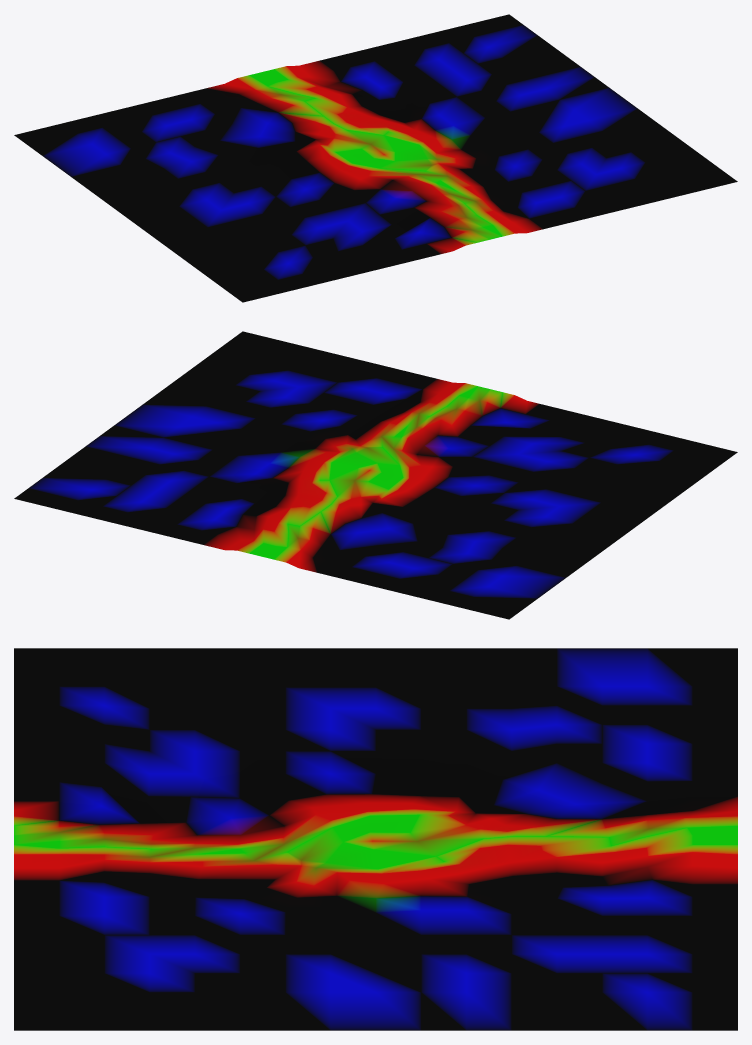
File: Section_MiniBossWayLine01_Steppe_Terrain.fbx
3 renders of one model, top to bottom at view 1: azimuth 30°, elevation 25°; view 2: azimuth 150°, elevation 25°; view 3: azimuth 270°, elevation 25°, orthographic. The views are drawn at different scales.
Visible parts, largest first — view 1: Section_MiniBossWayLine01_Steppe_Terrain; view 2: Section_MiniBossWayLine01_Steppe_Terrain; view 3: Section_MiniBossWayLine01_Steppe_Terrain.
Boxes of the visible parts, x1=… form: Section_MiniBossWayLine01_Steppe_Terrain: x1=14, y1=14, x2=737, y2=302; Section_MiniBossWayLine01_Steppe_Terrain: x1=14, y1=331, x2=737, y2=619; Section_MiniBossWayLine01_Steppe_Terrain: x1=14, y1=648, x2=737, y2=1030.
Size of the model in its own units: 10000 by 50 by 8000.
